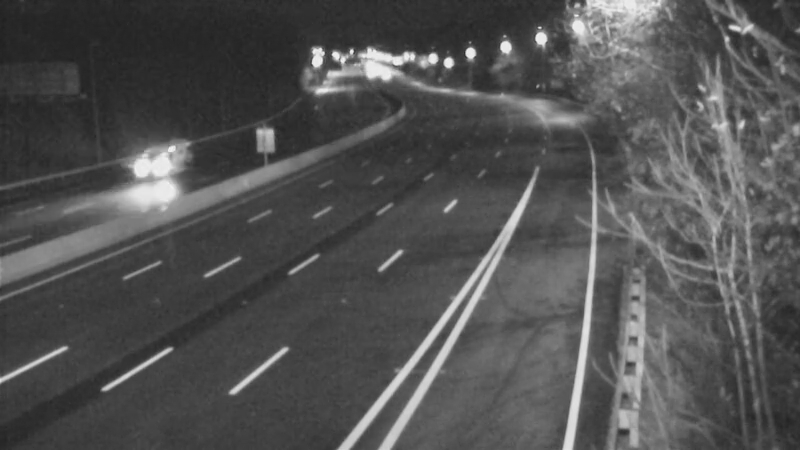vehicle: (109, 123, 189, 203)
